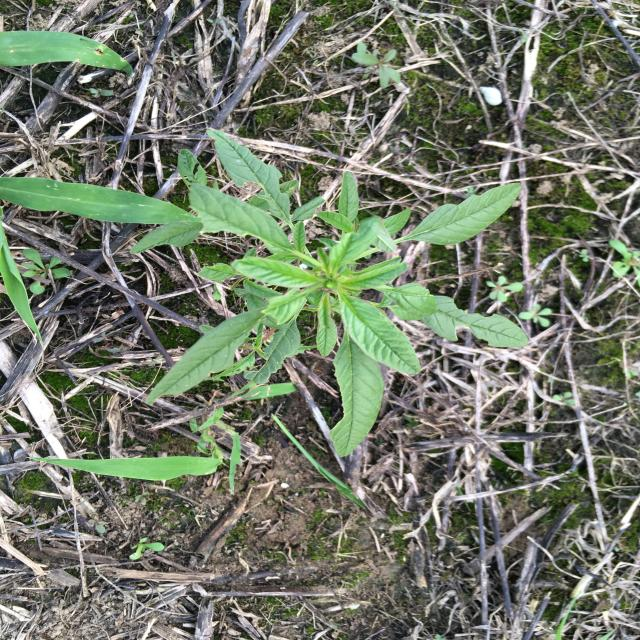Carpetweed: (16, 246, 73, 294)
Waterhemp: (127, 127, 532, 460)
